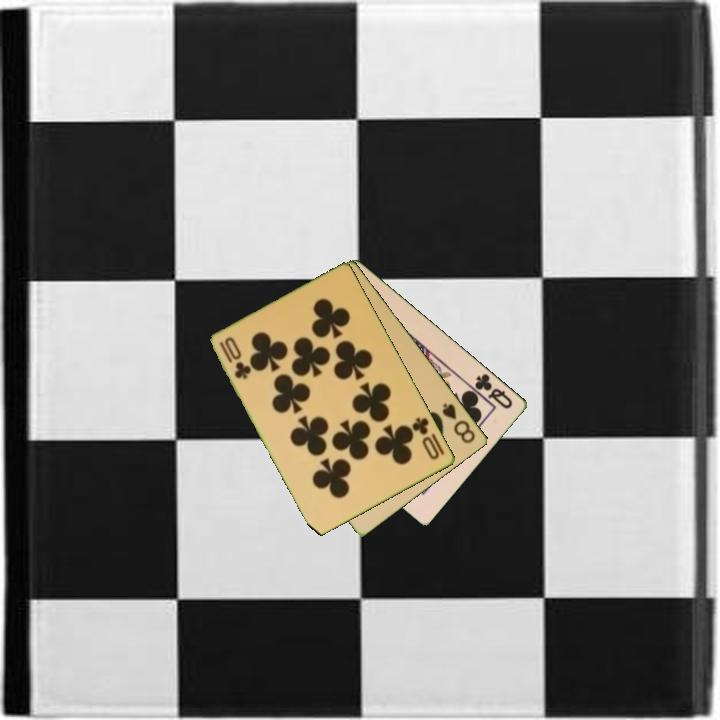10c: (216, 338, 254, 382), (409, 414, 443, 463)
8s: (439, 399, 479, 447)
Qc: (466, 370, 516, 412)
